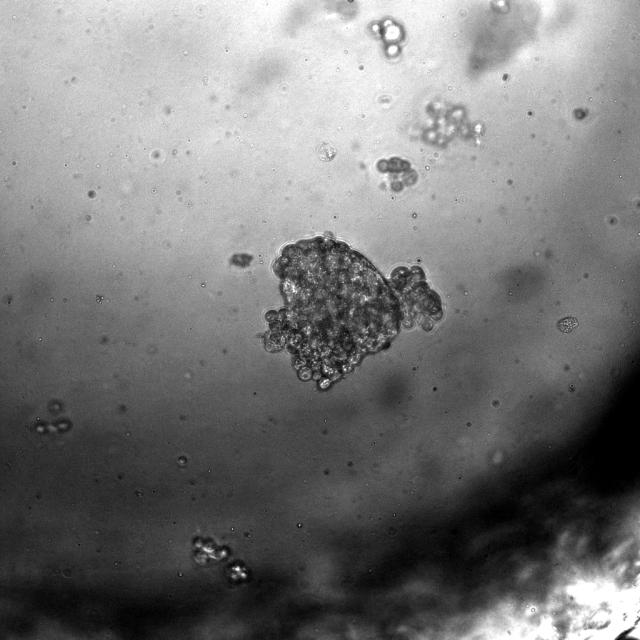organoid: (259, 234, 443, 390), (418, 100, 486, 148), (374, 156, 418, 194), (369, 17, 405, 59), (192, 536, 231, 565), (224, 560, 251, 585), (316, 140, 337, 161), (557, 316, 579, 333)
